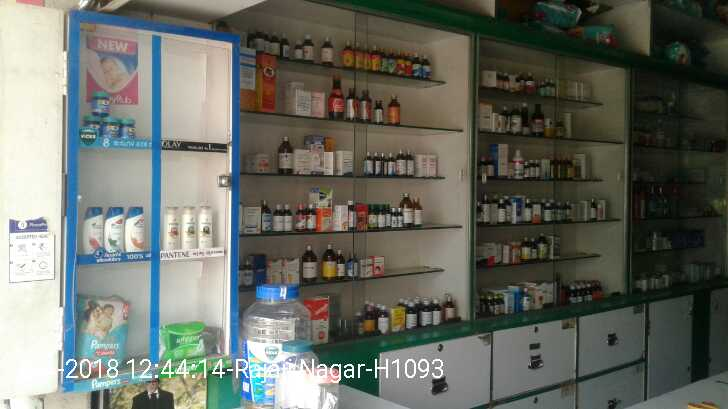vicks: (83, 88, 135, 138)
